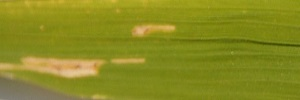RiceBacterialBlight: (1, 54, 158, 80), (127, 19, 184, 40)
